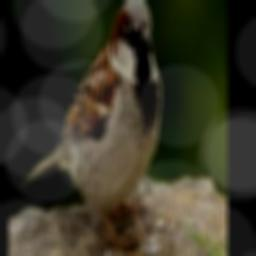Sparrow: (21, 0, 161, 253)
